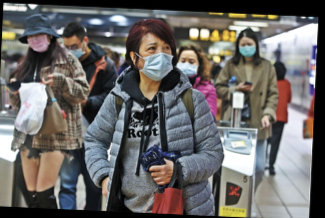with_mask: (139, 39, 176, 82), (25, 30, 52, 52), (175, 55, 200, 77), (237, 38, 259, 59), (61, 42, 86, 59)
